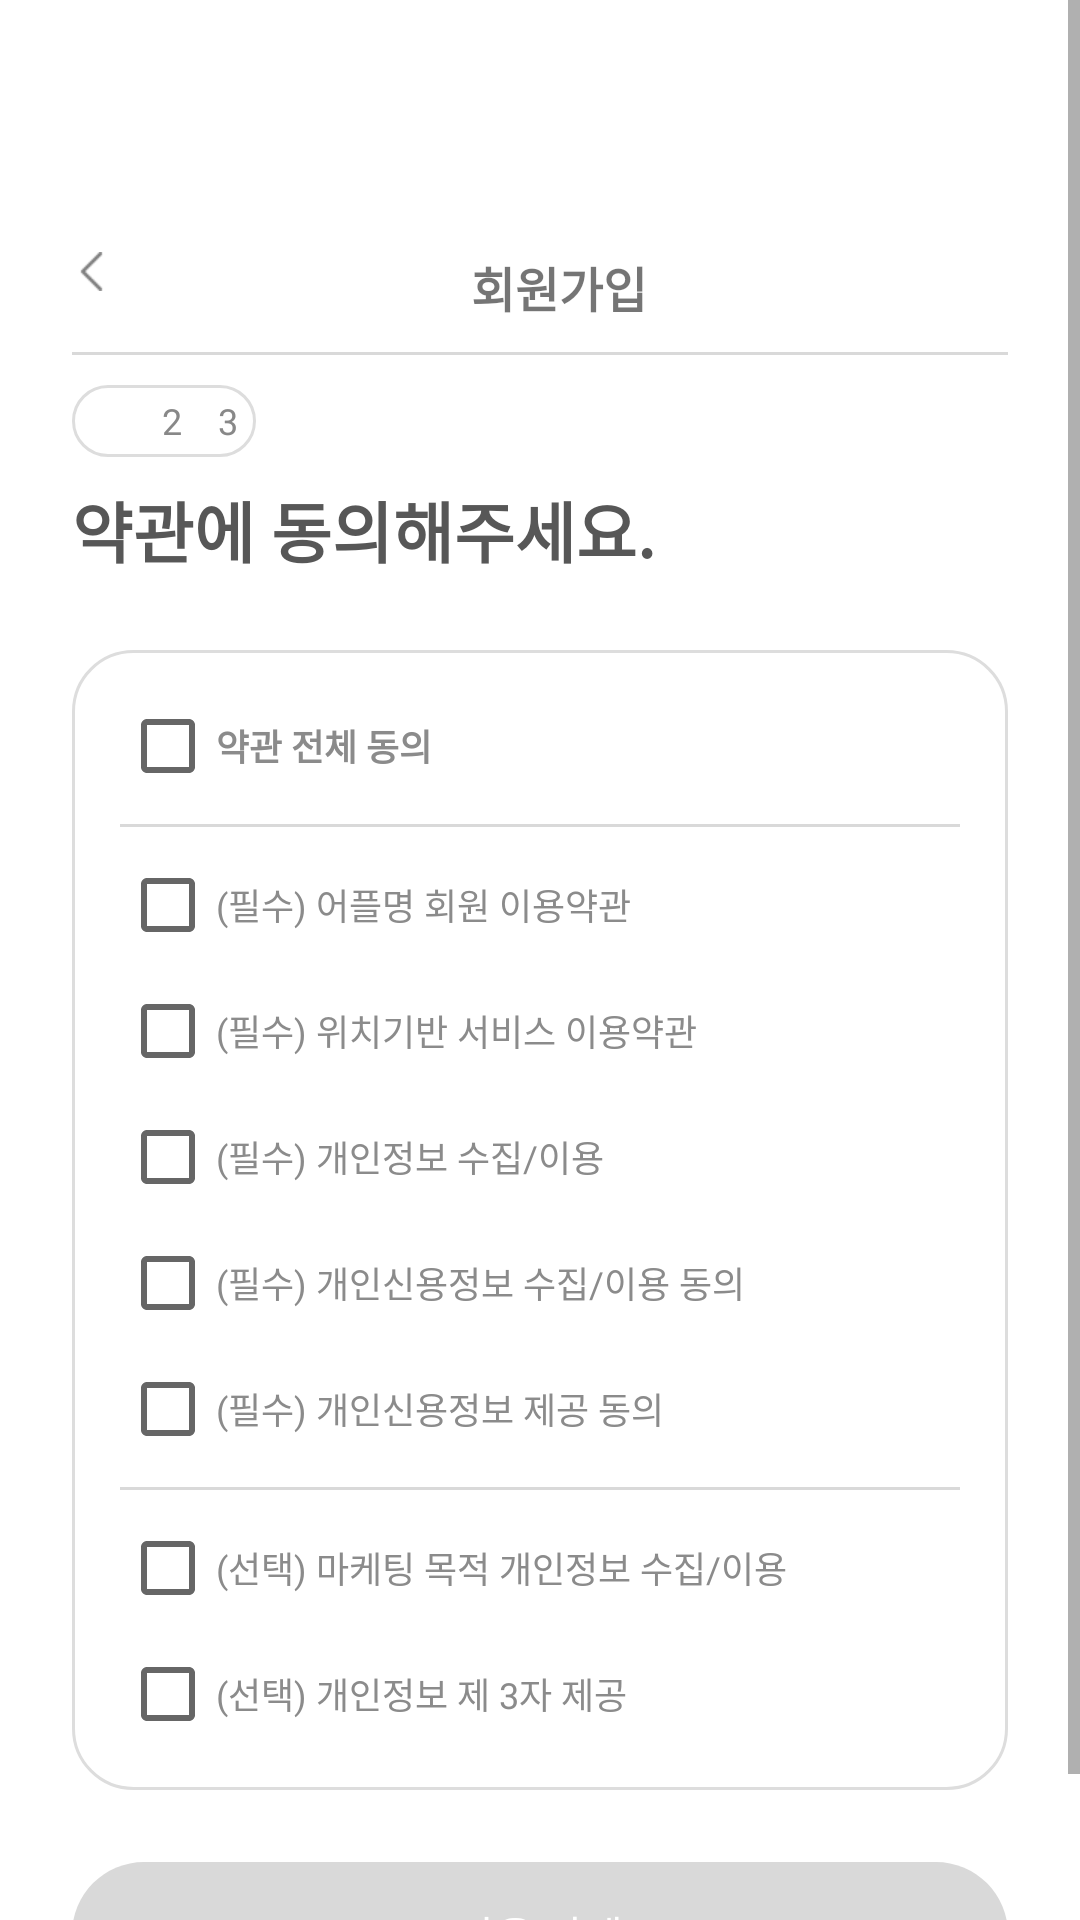

Icon click points for this 1080px×1920px phone screenshot, format (x=x, y=y):
back: (x=91, y=271)
